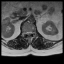CCS_normal: (28, 30, 30, 37)
LFS_normal: (32, 30, 33, 35)
LLS_normal: (30, 30, 32, 35)
RFS_normal: (24, 30, 26, 36)
RLS_normal: (26, 30, 28, 36)
